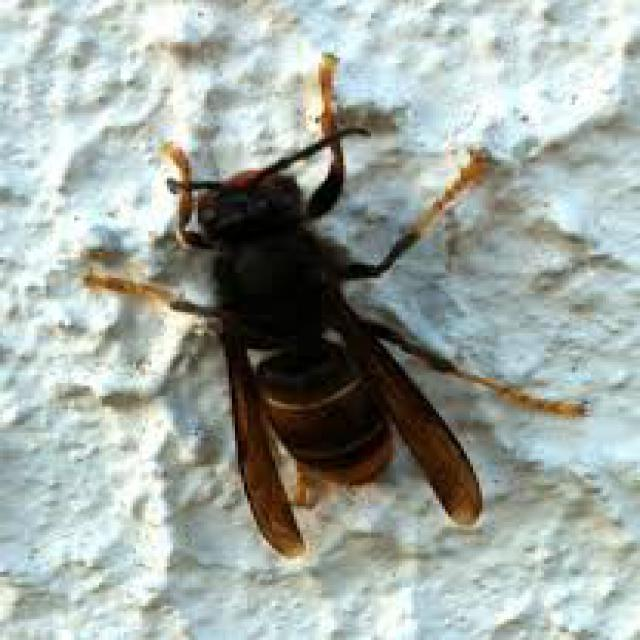Vespa Velutina: (72, 42, 597, 569)
